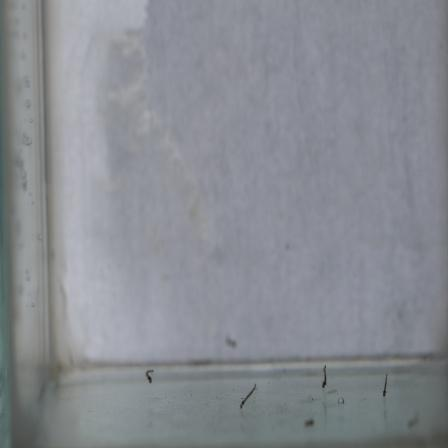Jentik-Nyamuk: (237, 378, 259, 413), (318, 363, 332, 393), (140, 367, 161, 387), (379, 370, 392, 401)
